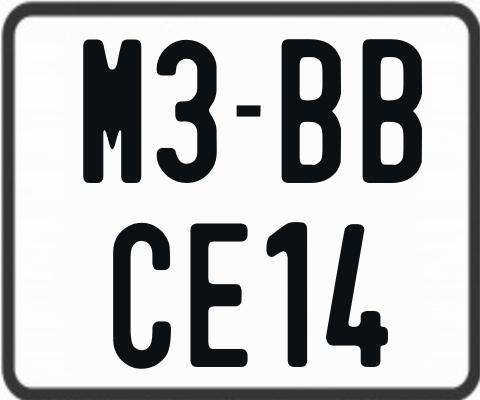1: (265, 219, 310, 367)
3: (156, 40, 218, 187)
4: (325, 221, 388, 370)
B: (360, 36, 424, 184), (279, 37, 342, 186)
C: (110, 221, 170, 373)
E: (189, 224, 250, 369)
M: (81, 40, 139, 184)
